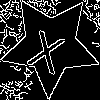X: (25, 20, 70, 75)
